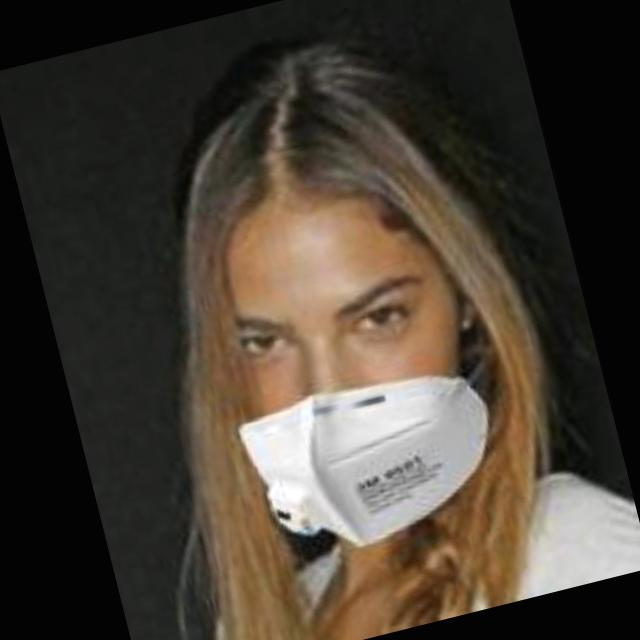suspicion: (150, 124, 542, 577)
